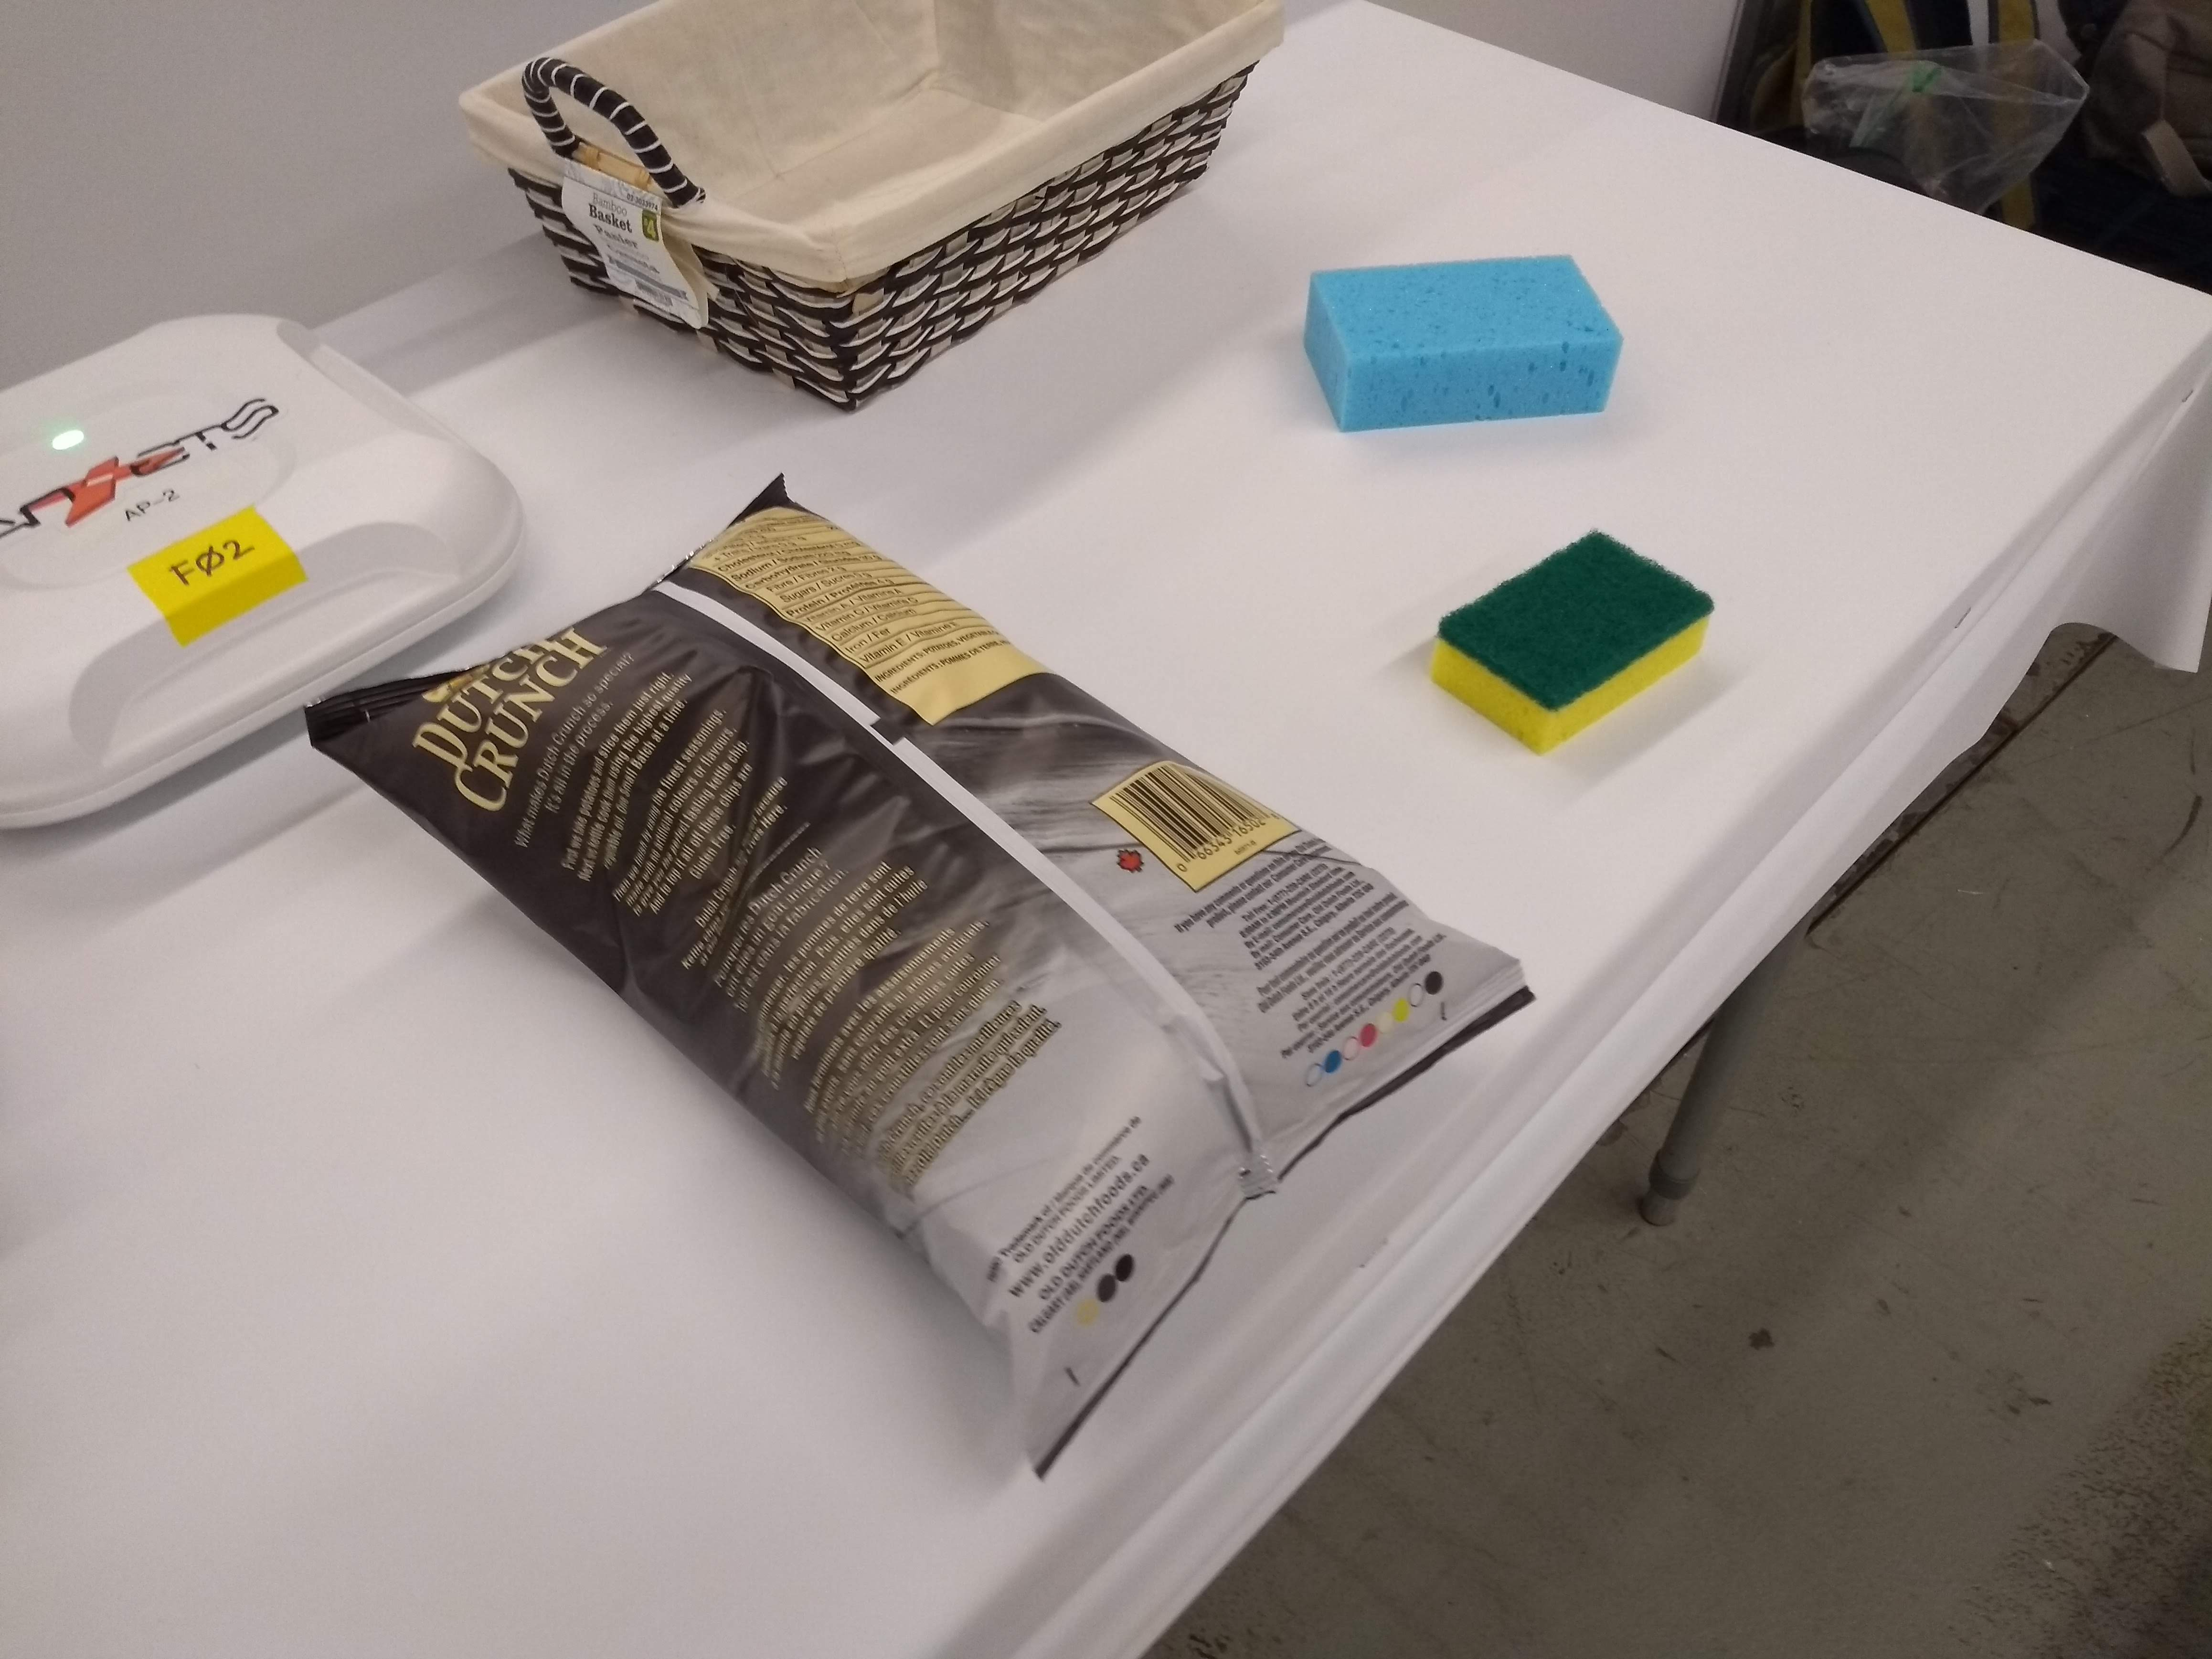potato_chips: (287, 453, 1548, 1488)
scrubby: (1423, 518, 1726, 763)
sponge_opl: (1296, 244, 1630, 443)
